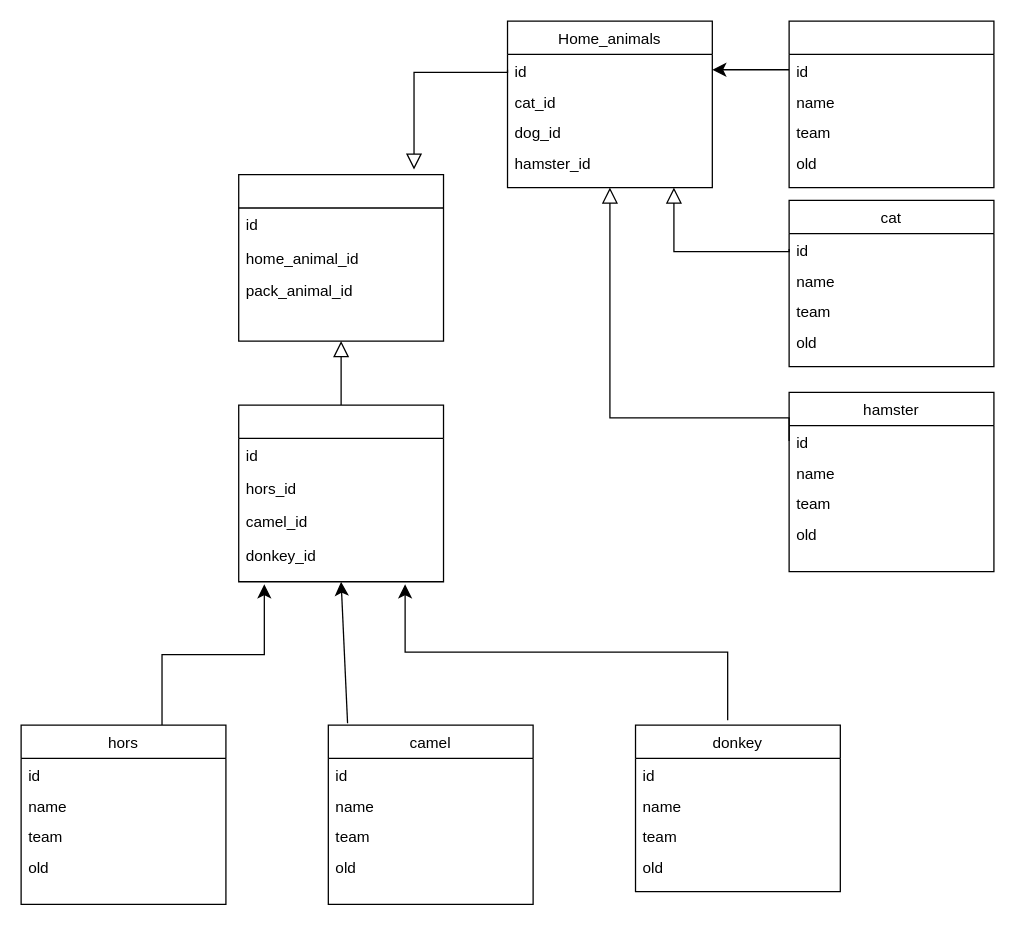
This 1015x925 diagram has some shape labels left out. The shapes that lost their labels are listed below. From the top down, each one's box as (x1, y1, x2, y2) in pixels, then its label:
(788, 20, 994, 188): dog
(237, 173, 444, 341): Animals
(237, 404, 444, 582): Pack_animals
